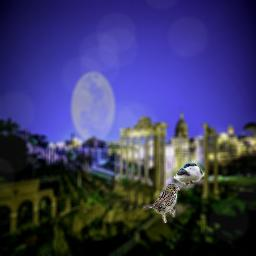Sparrow: (143, 183, 180, 223)
Swallow: (165, 162, 205, 185)
